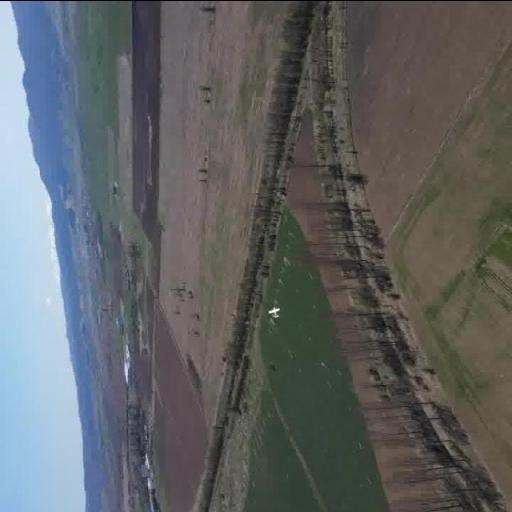uav: (264, 302, 290, 320)
